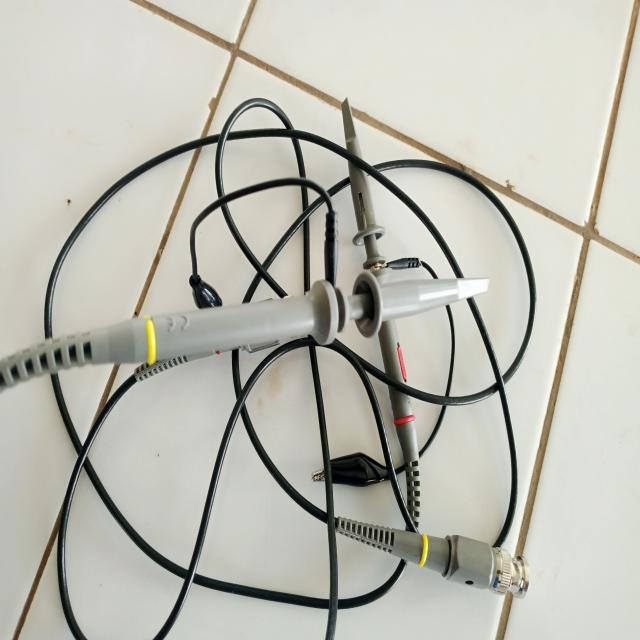CRO Probes: (83, 92, 549, 615)
